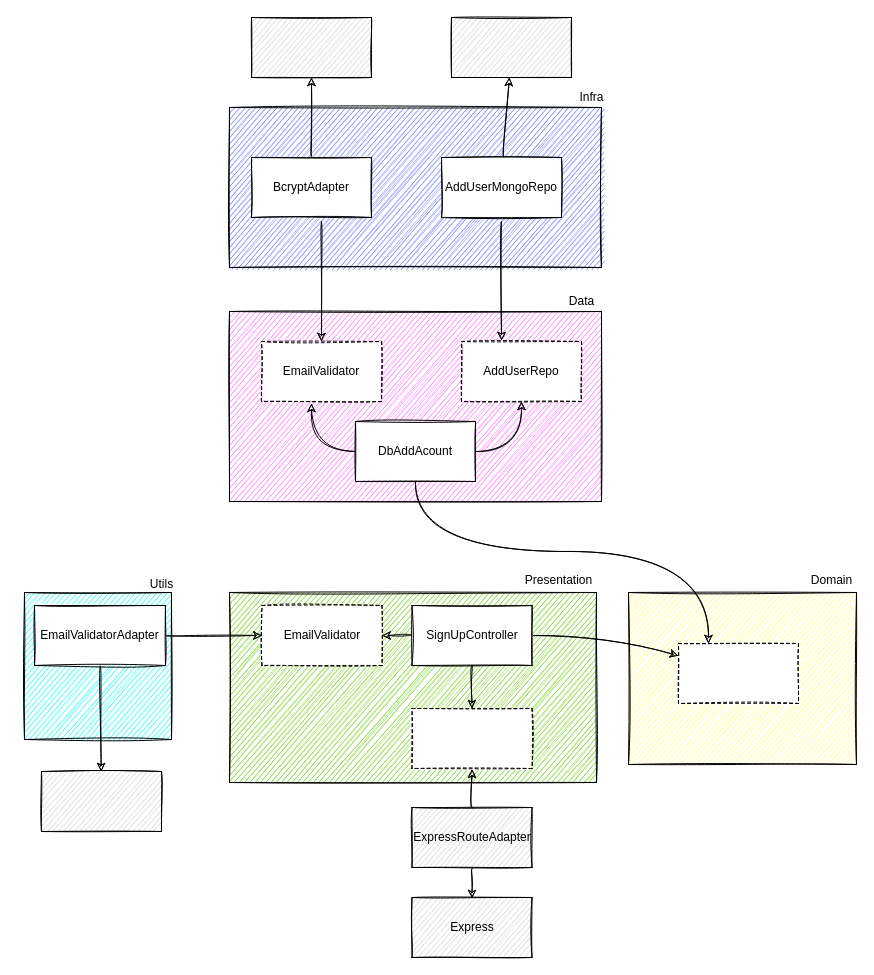
The diagram is 874 pixels wide and 975 high, and some of its shapes have lost their labels. Each missing label, with the centre of its shape:
AddCount: the point at 738,673
BCrypt: the point at 311,47
Controller: the point at 471,738
MongoDB: the point at 511,47
Validator: the point at 101,801
